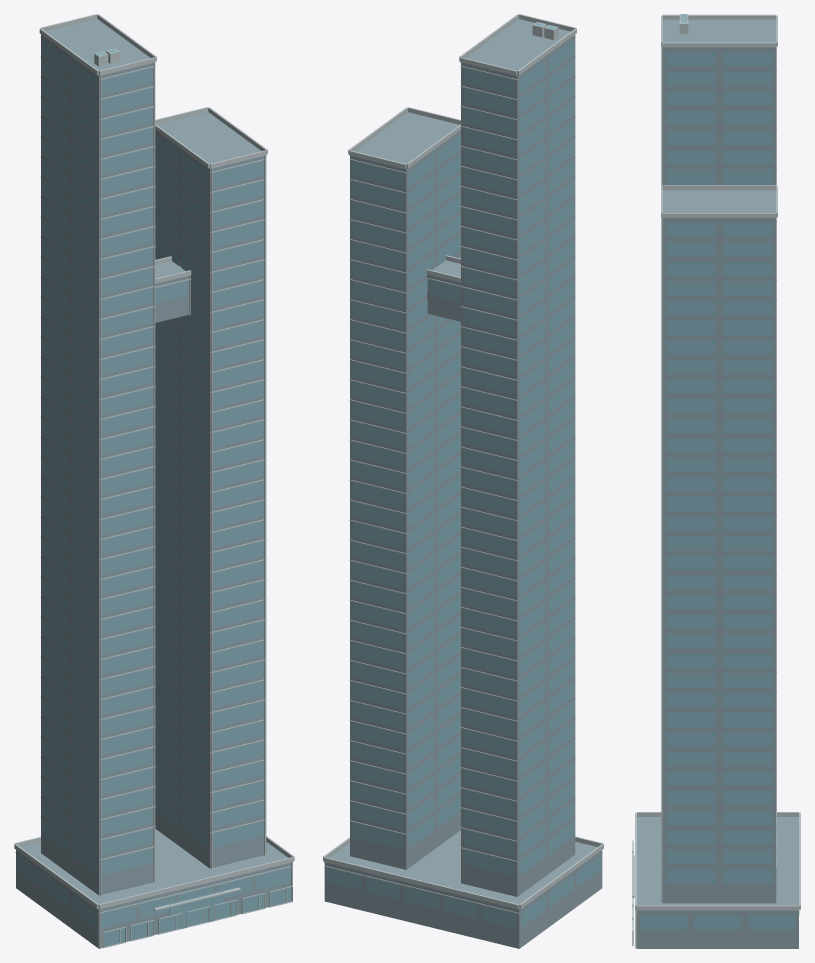
File: commercial_4x3_tower_split.glb
The picture shows the model from 3 angles, left to right: view 1: azimuth 30°, elevation 25°; view 2: azimuth 150°, elevation 25°; view 3: azimuth 270°, elevation 25°; orthographic projection. The views are drawn at different scales.
Visible parts, largest first — view 1: commercial_4x3_tower_split_0; view 2: commercial_4x3_tower_split_0; view 3: commercial_4x3_tower_split_0.
Boxes of the visible parts, x1,y1,x2,y2 form: commercial_4x3_tower_split_0: (14, 14, 294, 948); commercial_4x3_tower_split_0: (323, 14, 603, 948); commercial_4x3_tower_split_0: (632, 14, 800, 948).
Bounding box in the file's own units: 31 × 130 × 23.4.
